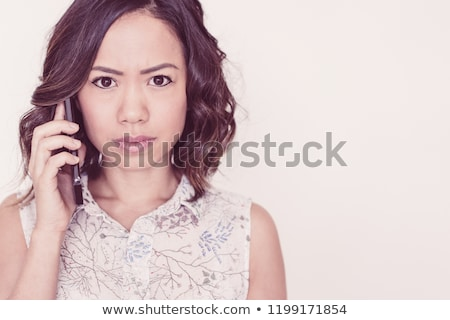phone: (50, 87, 96, 220)
talk: (27, 54, 190, 240)
